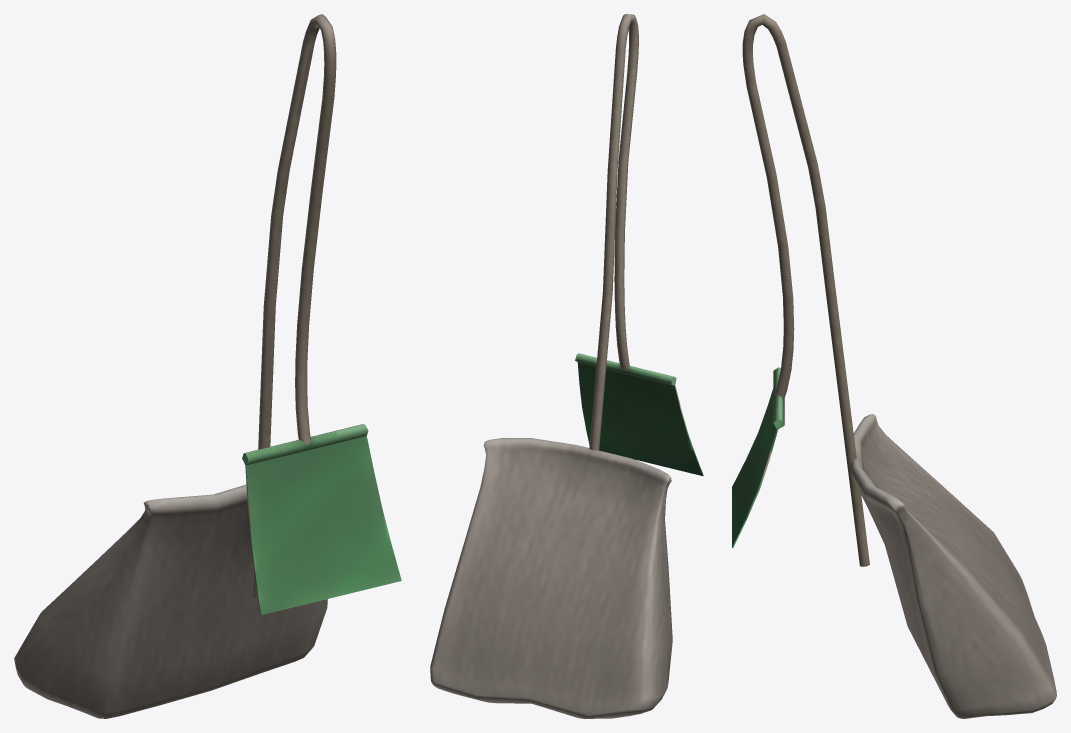
Rendered from SM_BreakfastProps_TeaBag.fbx.
The picture shows the model from 3 angles, left to right: view 1: azimuth 30°, elevation 25°; view 2: azimuth 150°, elevation 25°; view 3: azimuth 270°, elevation 25°; orthographic projection. The views are drawn at different scales.
Visible parts, largest first — view 1: SM_BreakfastProps_TeaBag_LOD0; view 2: SM_BreakfastProps_TeaBag_LOD0; view 3: SM_BreakfastProps_TeaBag_LOD0.
Boxes of the visible parts, <box> form: SM_BreakfastProps_TeaBag_LOD0: <box>14,14,401,718</box>; SM_BreakfastProps_TeaBag_LOD0: <box>430,14,703,718</box>; SM_BreakfastProps_TeaBag_LOD0: <box>732,14,1056,718</box>.
Size of the model in its own units: 5.14 by 5.91 by 13.36.
Materials: 1 (1 with a texture image).
